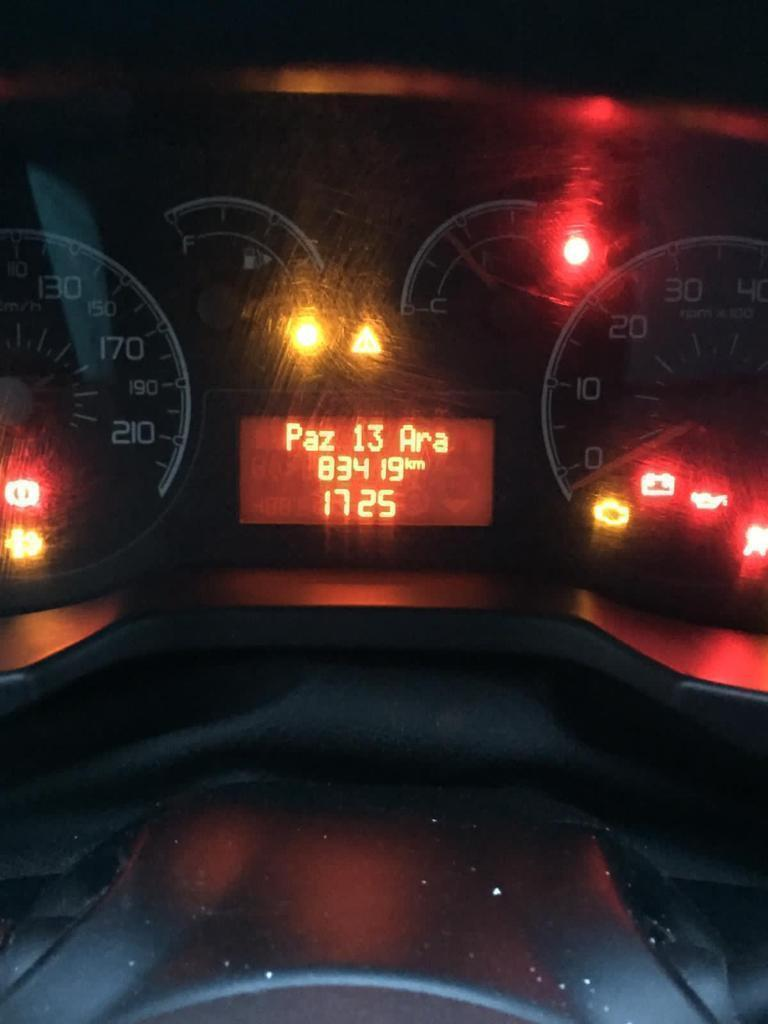1: (352, 422, 365, 452), (322, 487, 331, 518), (378, 455, 387, 480)
2: (357, 488, 376, 517)
3: (366, 422, 385, 453), (336, 455, 352, 482)
4: (353, 456, 370, 480)
5: (376, 487, 397, 518)
7: (333, 487, 351, 517)
8: (317, 455, 335, 480)
9: (388, 455, 404, 480)
X: (285, 422, 303, 451), (398, 424, 416, 452), (318, 428, 335, 451), (432, 429, 448, 453), (416, 430, 431, 453), (303, 428, 318, 451), (412, 459, 426, 471), (404, 456, 412, 469)
odometer: (233, 403, 502, 537)
